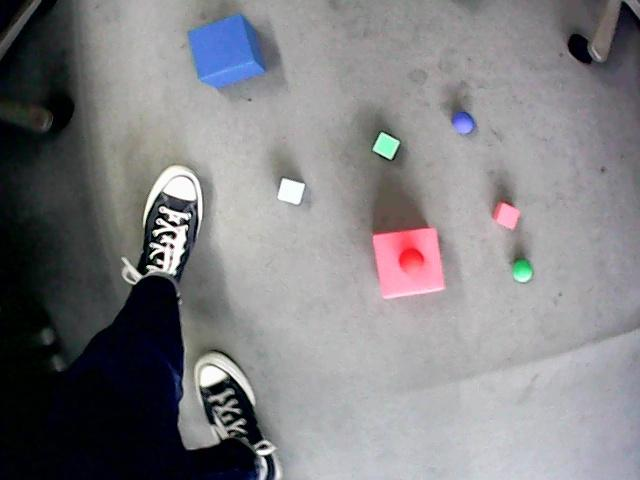blue_block: (188, 14, 265, 87)
red_block: (373, 228, 444, 298), (493, 202, 519, 229)
